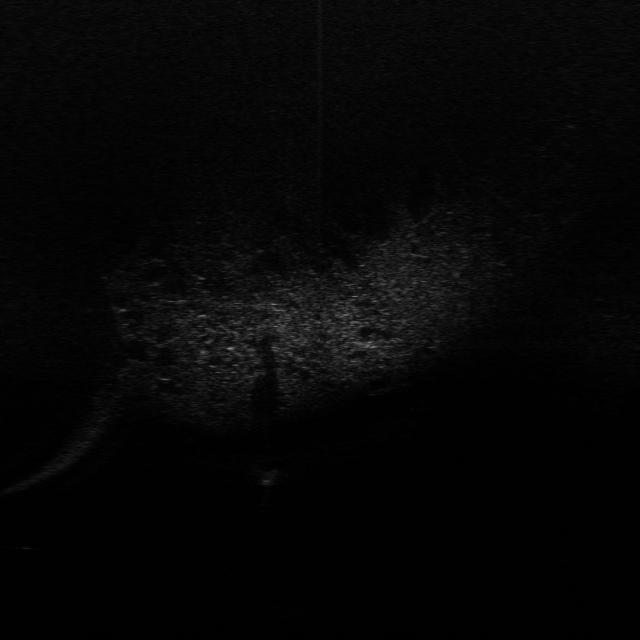cylinder: (250, 462, 280, 488)
